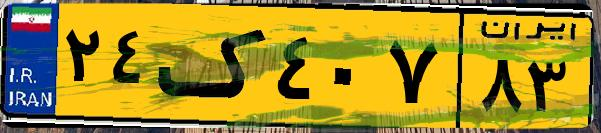0: (330, 28, 385, 110)
2: (57, 26, 110, 100)
3: (525, 38, 570, 115)
4: (270, 28, 330, 110), (110, 28, 158, 98)
7: (385, 28, 445, 110)
8: (475, 38, 525, 113)
ک: (158, 12, 270, 120)
